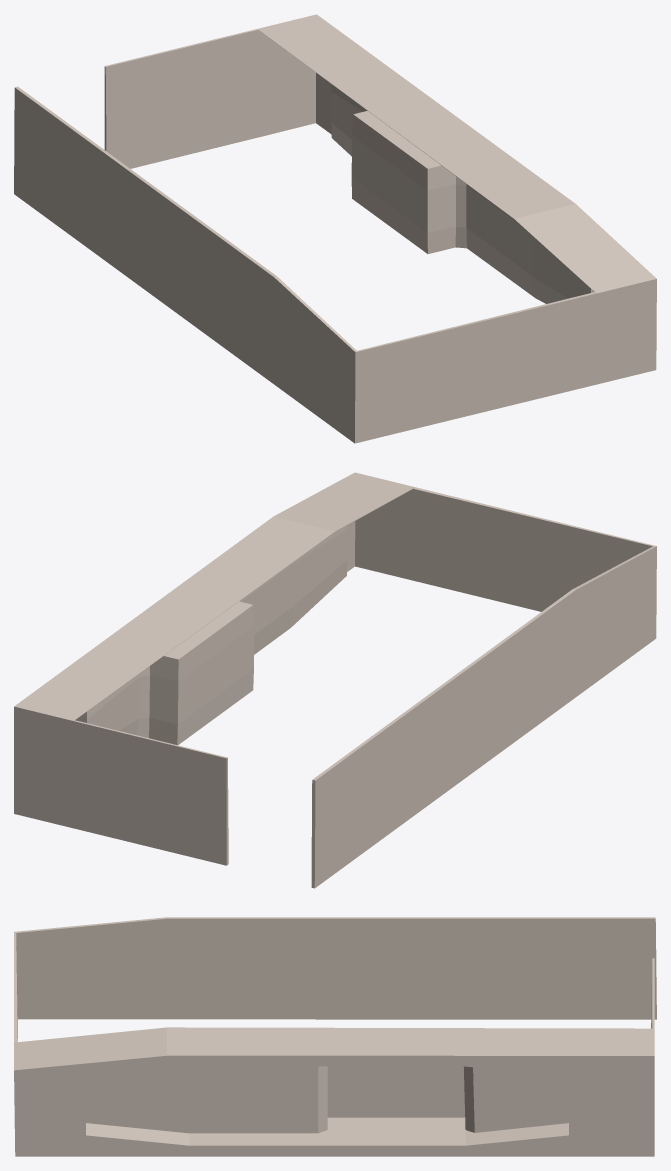
Rendered from ForceWall.fbx.
3 renders of one model, top to bottom at view 1: azimuth 30°, elevation 25°; view 2: azimuth 150°, elevation 25°; view 3: azimuth 270°, elevation 25°, orthographic. The views are drawn at different scales.
Visible parts, largest first — view 1: FWPart; view 2: FWPart; view 3: FWPart.
Part boxes in pixels (box(x1,y1,x2,y2)): FWPart: box(14, 14, 656, 443); FWPart: box(14, 472, 656, 888); FWPart: box(14, 917, 656, 1156).
Size of the model in its own units: 40.76 by 13.85 by 79.96.
